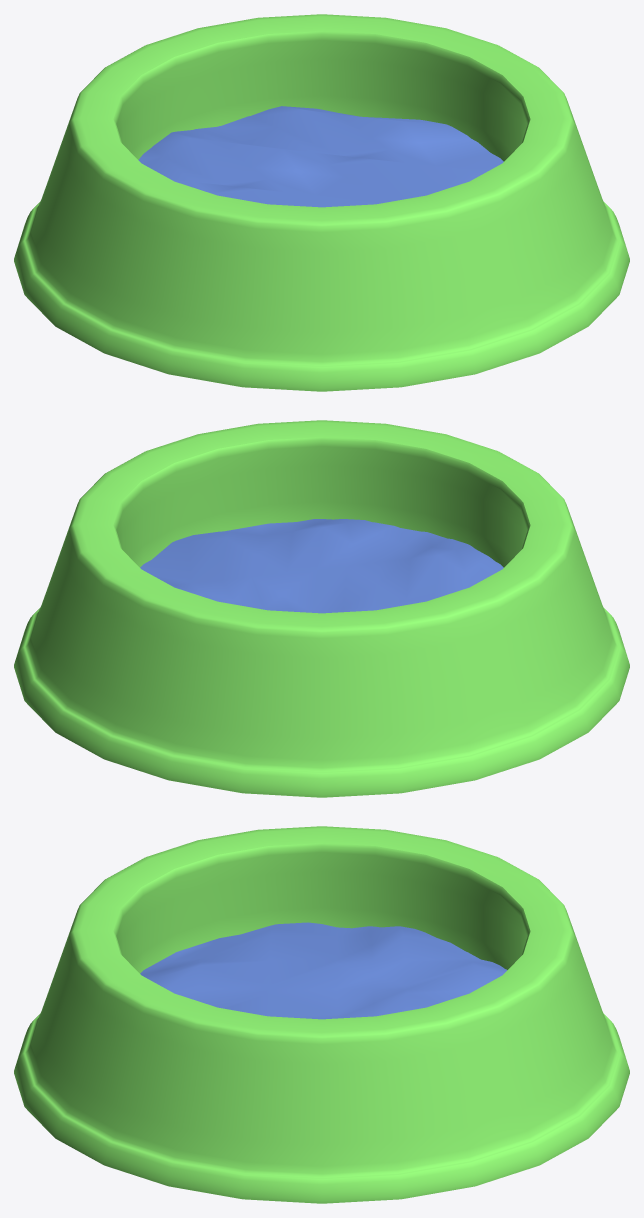
Rendered from koirankuppi.fbx.
The picture shows the model from 3 angles, top to bottom: view 1: azimuth 30°, elevation 25°; view 2: azimuth 150°, elevation 25°; view 3: azimuth 270°, elevation 25°; orthographic projection.
Parts seen in each view (by area): view 1: kuppi, vesi; view 2: kuppi, vesi; view 3: kuppi, vesi.
Part boxes in pixels (box(x1,y1,x2,y2)): kuppi: box(14, 14, 629, 391); vesi: box(138, 106, 503, 207); kuppi: box(14, 420, 629, 797); vesi: box(140, 519, 503, 613); kuppi: box(14, 826, 629, 1203); vesi: box(140, 922, 507, 1019).
Bounding box in the file's own units: 30.81 × 7.94 × 30.81.
